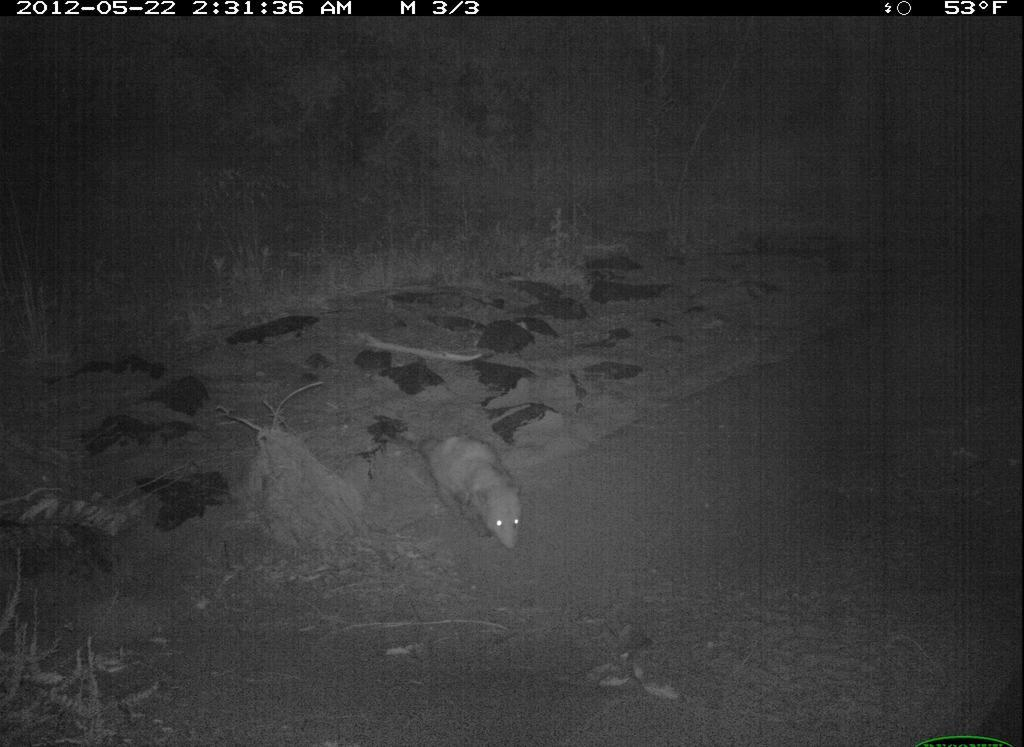opossum: (372, 415, 552, 571)
